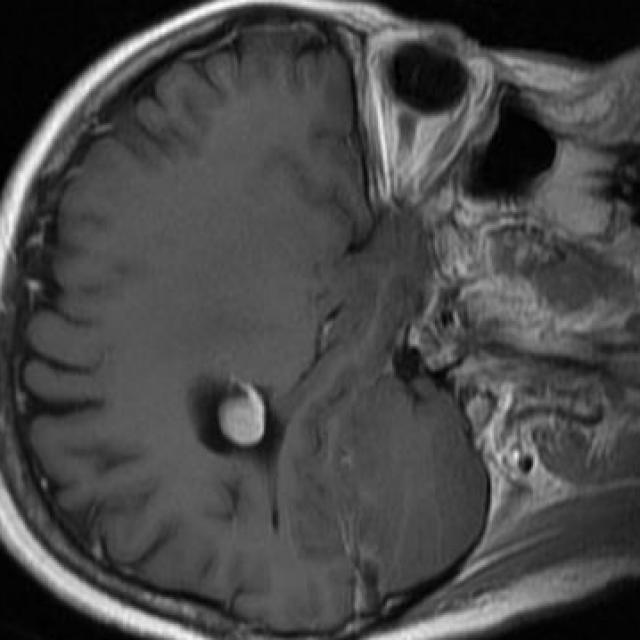meningioma: (217, 392, 266, 447)
